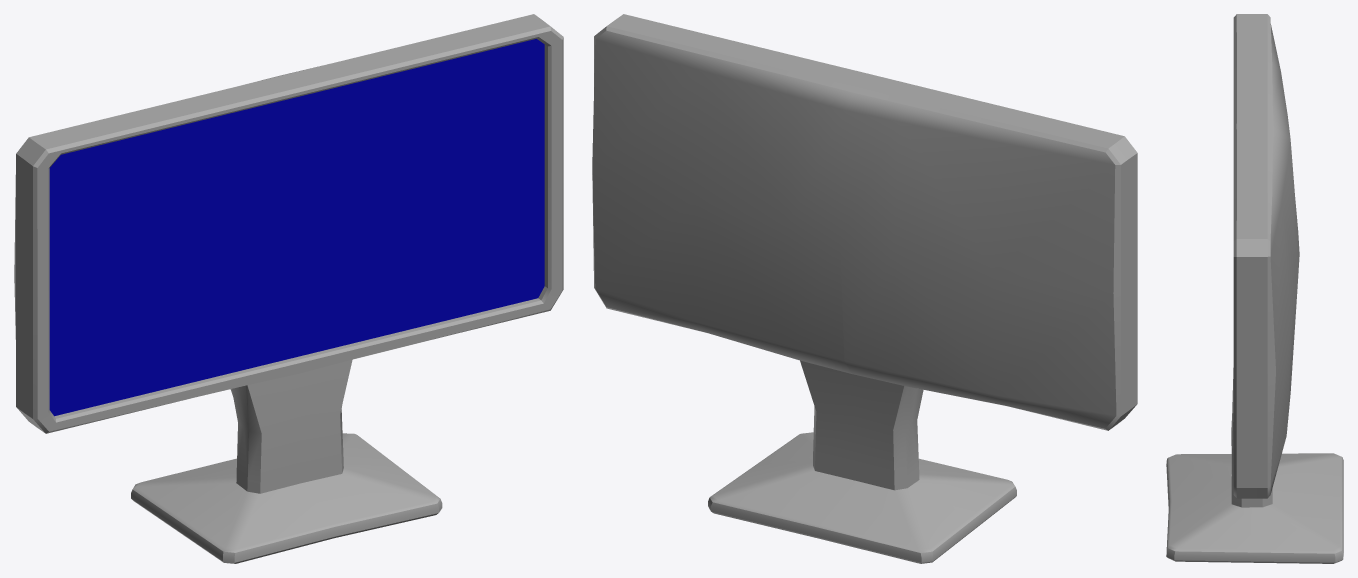
3 views of the same model, side by side, from view 1: azimuth 30°, elevation 25°; view 2: azimuth 150°, elevation 25°; view 3: azimuth 270°, elevation 25° (orthographic). The views are drawn at different scales.
Parts seen in each view (by area): view 1: TV_Display; view 2: TV_Display; view 3: TV_Display.
Part boxes in pixels (box(x1,y1,x2,y2)): TV_Display: box(14, 14, 563, 563); TV_Display: box(592, 14, 1137, 563); TV_Display: box(1166, 14, 1343, 563).
Size of the model in its own units: 53.94 by 41.27 by 17.08.
